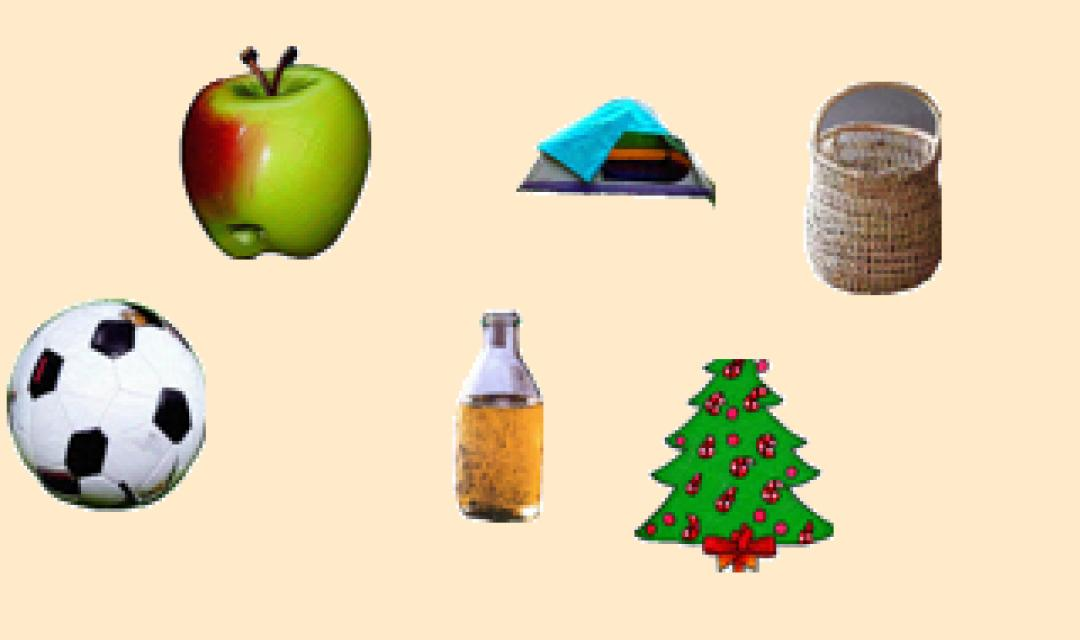not a gesture sign: (514, 95, 770, 322), (197, 23, 402, 294), (476, 325, 565, 618)
